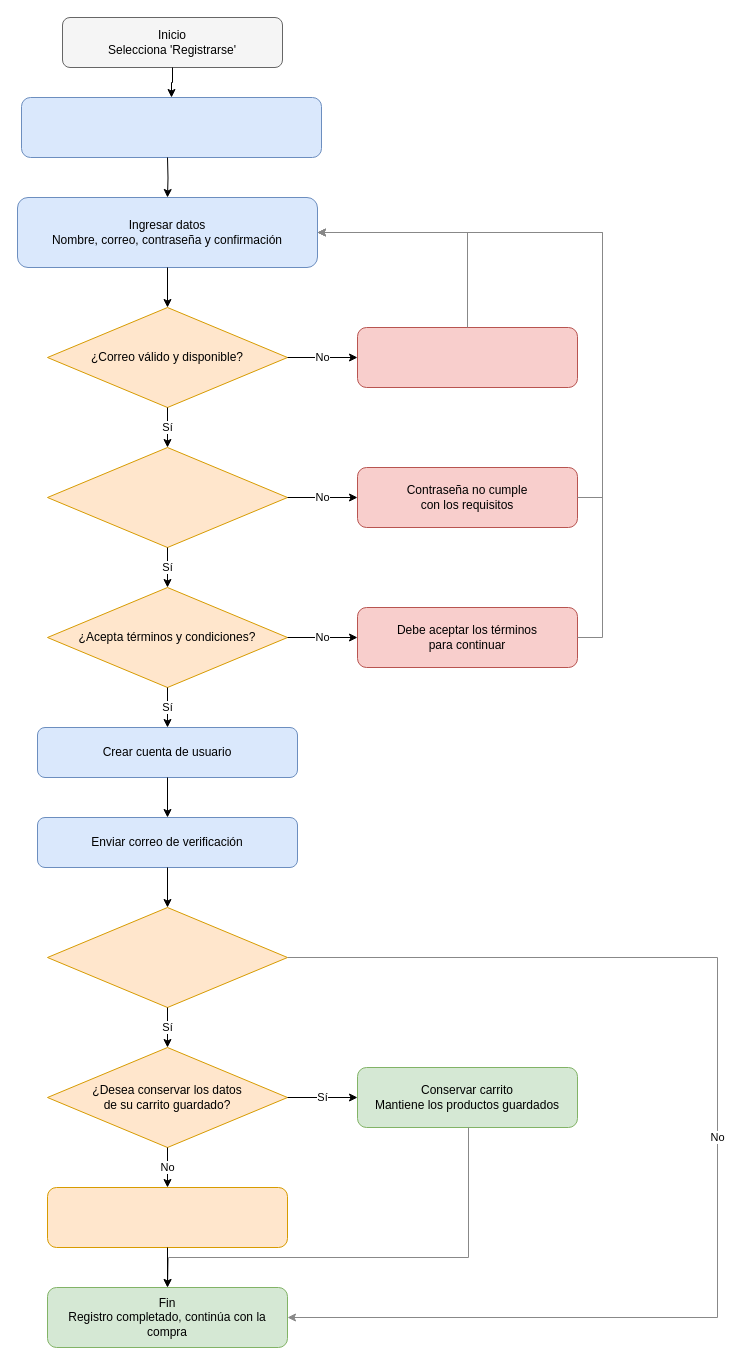
Image size: 743x1365. Some labels were removed from this diagram. The centre of each missing label's shape, as x and y in pixels:
Correo inválido o ya registrado: the point at 467,357
Mostrar formulario de registro: the point at 171,127
Vaciar carrito Inicia con el carrito vacío: the point at 167,1217
¿Contraseña válida y coincide con la confirmación?: the point at 167,497
¿Tenía un carrito guardado antes de registrarse?: the point at 167,957
